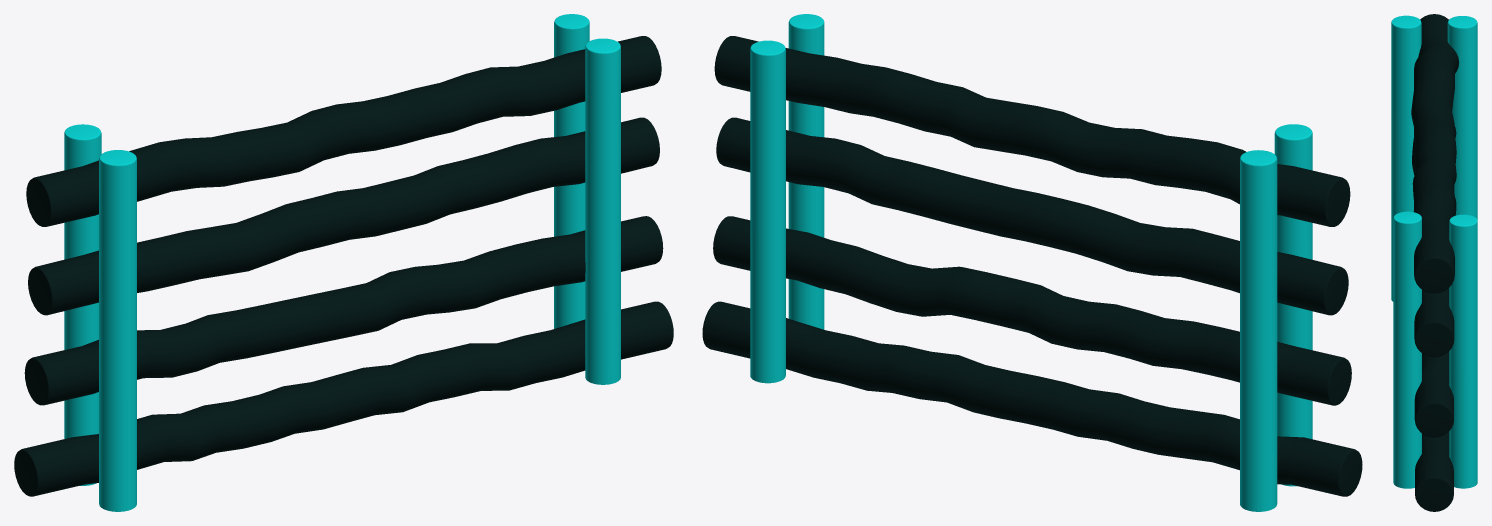
File: old_fence1.fbx
The picture shows the model from 3 angles, left to right: view 1: azimuth 30°, elevation 25°; view 2: azimuth 150°, elevation 25°; view 3: azimuth 270°, elevation 25°; orthographic projection. The views are drawn at different scales.
Visible parts, largest first — view 1: old_fence_1; view 2: old_fence_1; view 3: old_fence_1.
Part boxes in pixels (box(x1,y1,x2,y2)): old_fence_1: box(14, 14, 673, 511); old_fence_1: box(702, 14, 1362, 511); old_fence_1: box(1391, 14, 1477, 511).
Bounding box in the file's own units: 4.89 × 2.54 × 0.7197.
